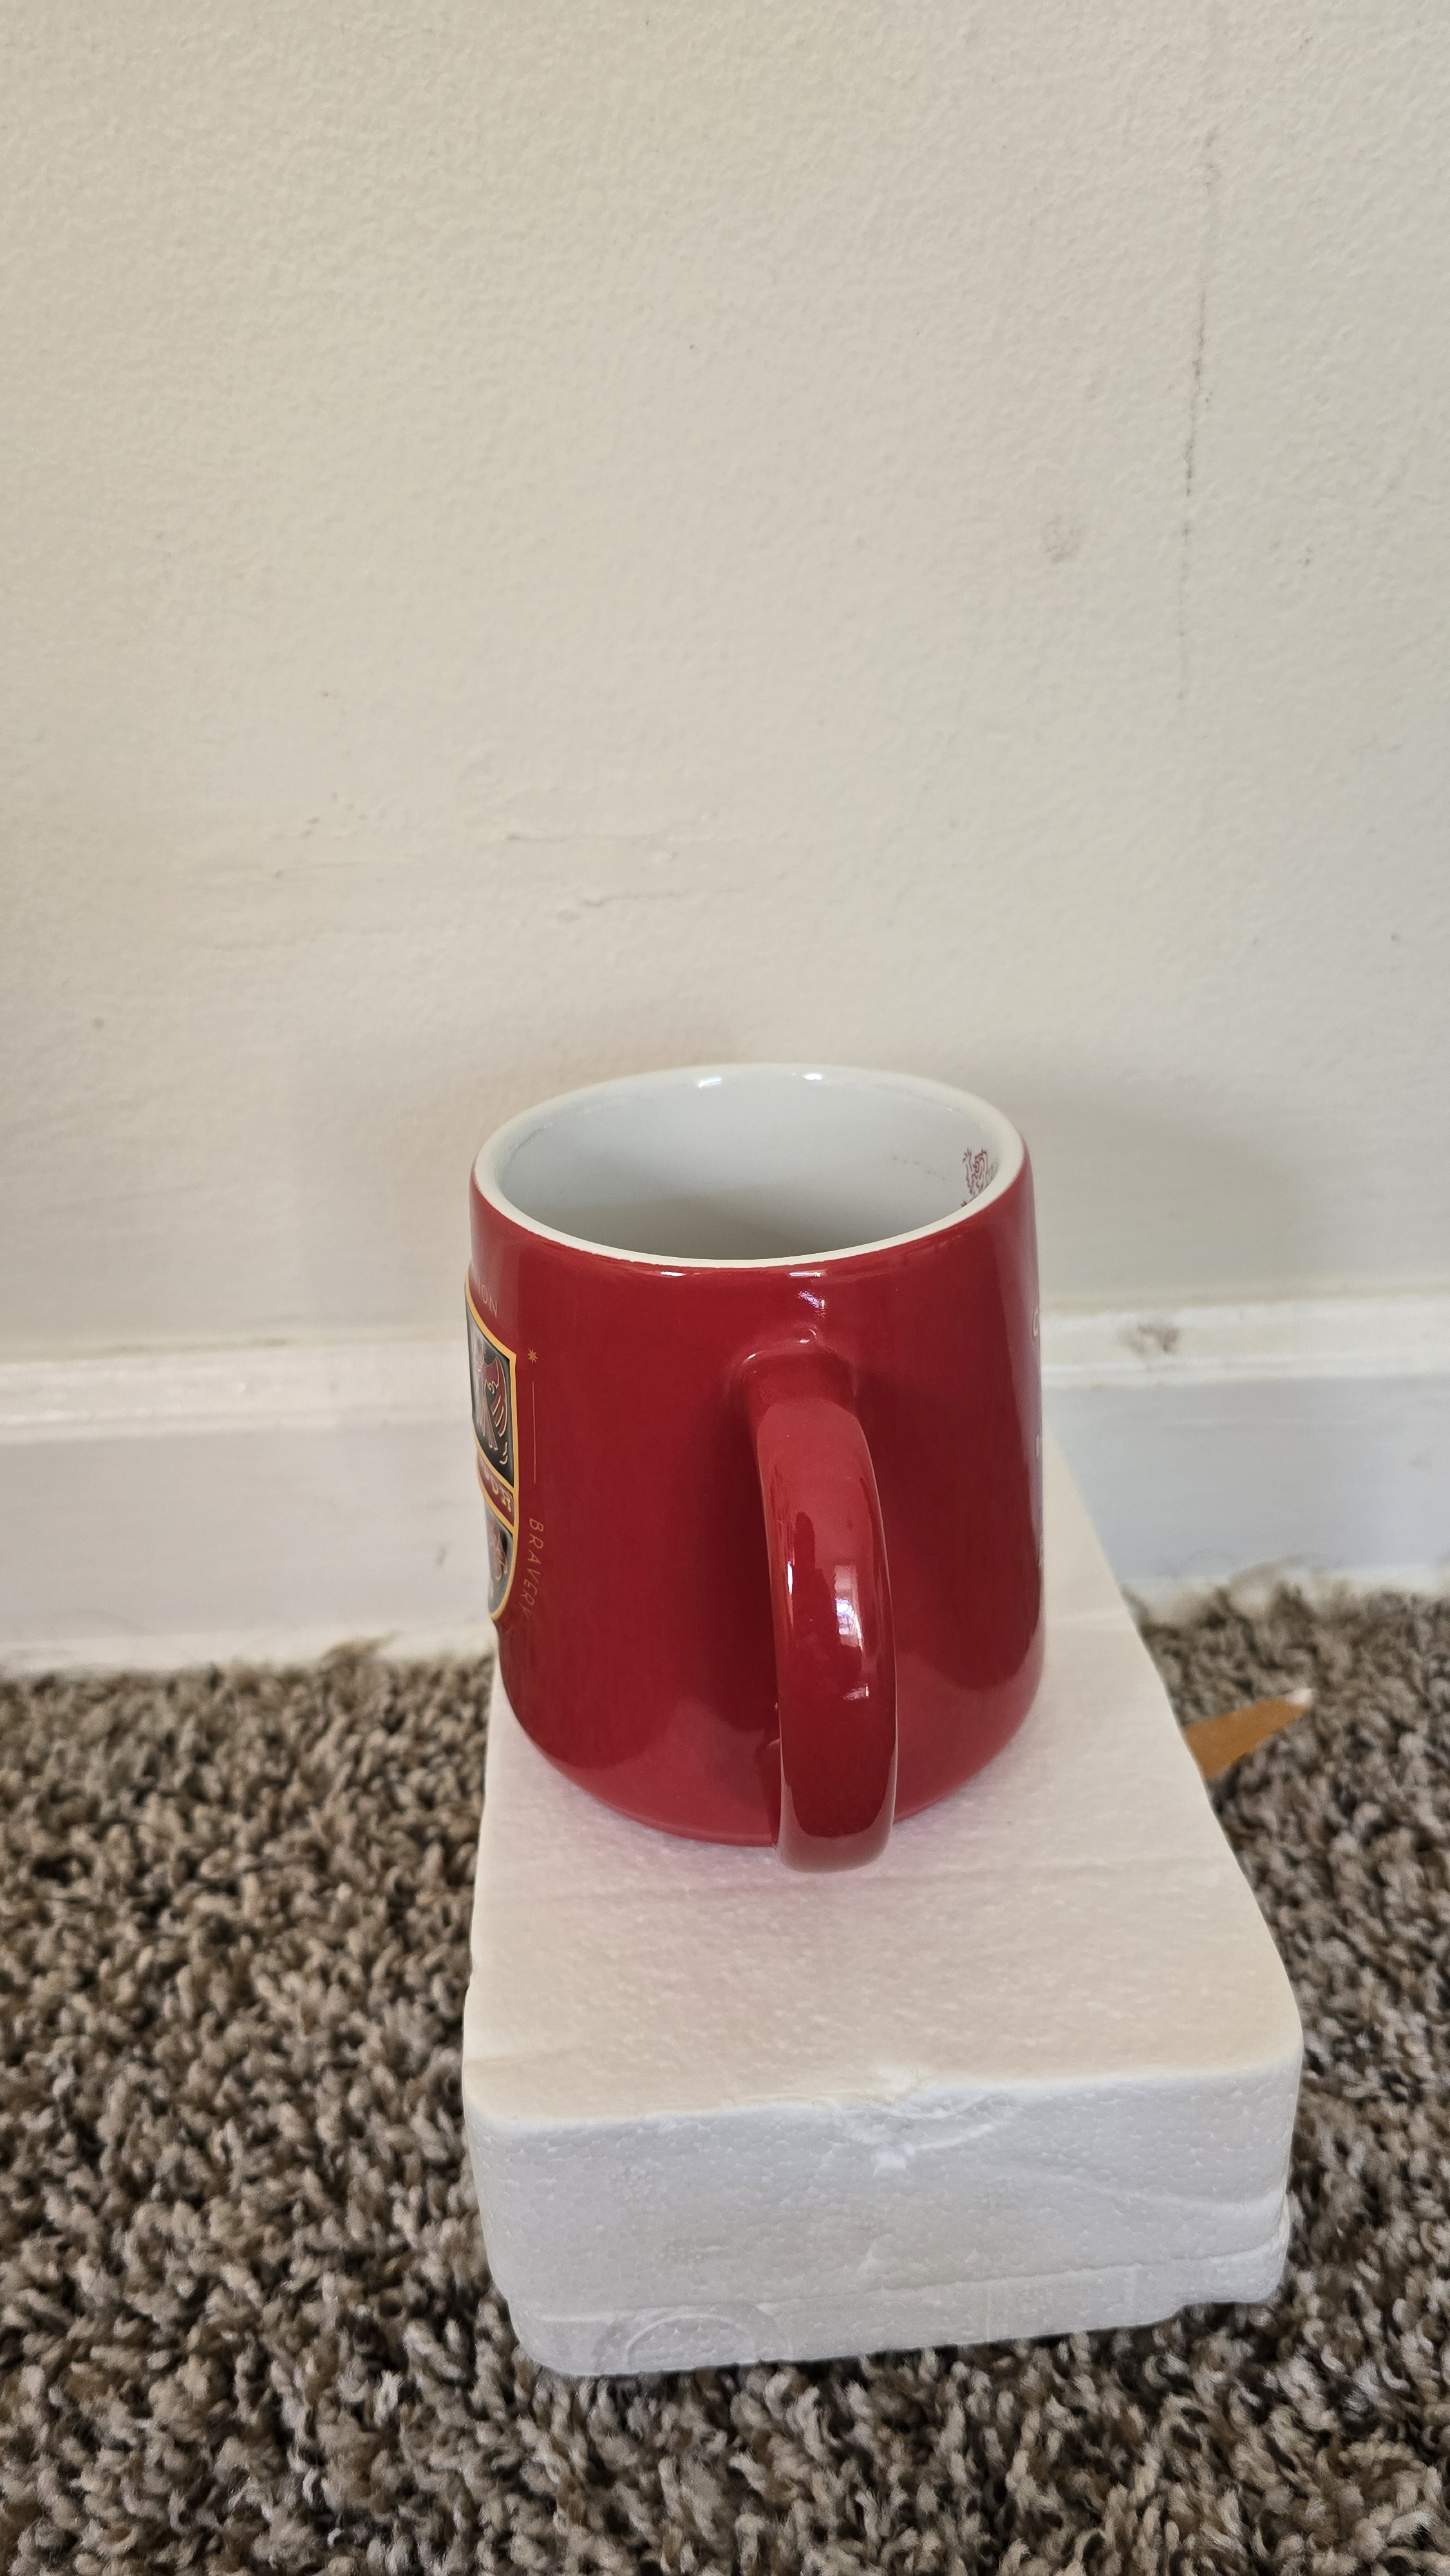mug: (396, 1017, 1208, 1923)
